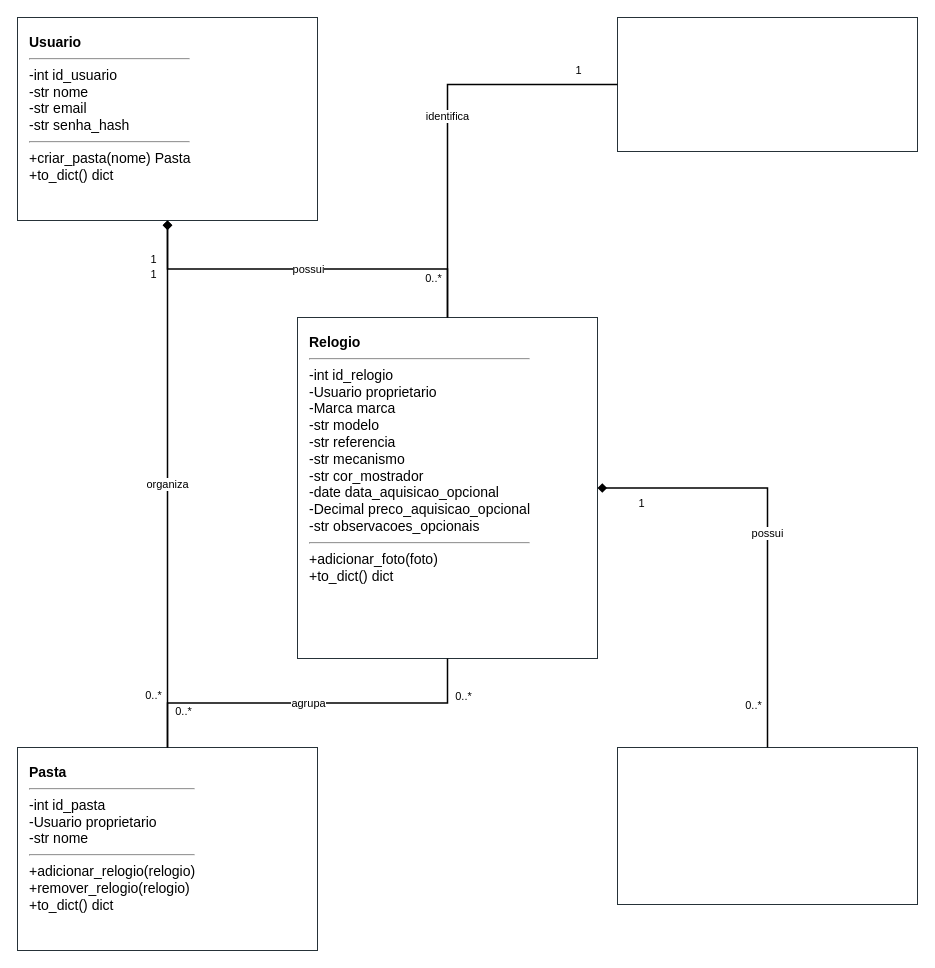
This 935x968 diagram has some shape labels left out. The centre of each missing label's shape, as x and y in pixels:
"Foto -int id_foto -str caminho_arquivo -str legenda_opcional +to_dict() dict" belongs at [767,825].
"Marca -int id_marca -str nome +to_dict() dict" belongs at [767,84].
